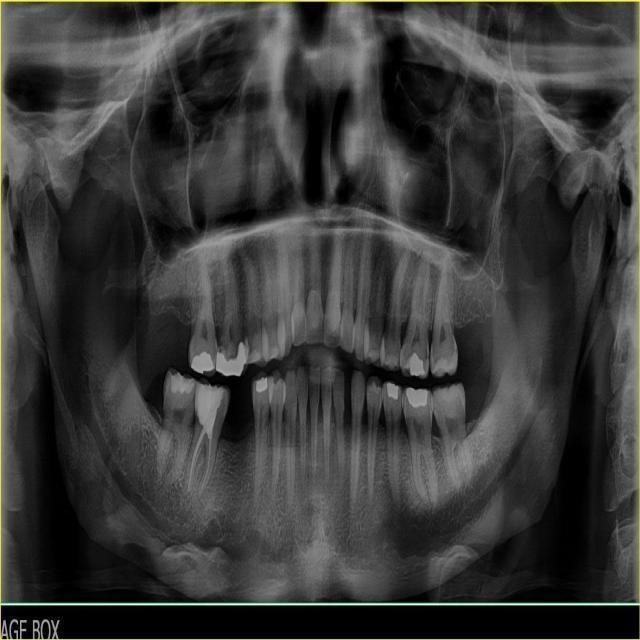Caries: (424, 345, 429, 361)
Filling: (195, 382, 223, 439), (216, 343, 247, 376), (171, 372, 195, 394), (433, 352, 457, 372), (406, 387, 428, 408), (406, 352, 424, 377), (191, 353, 214, 372), (386, 381, 398, 400), (384, 353, 399, 367), (256, 377, 267, 394), (367, 349, 379, 361)
Missing teeth: (219, 384, 257, 443)
Root Canal Treatment: (188, 425, 206, 495), (200, 439, 211, 491)
